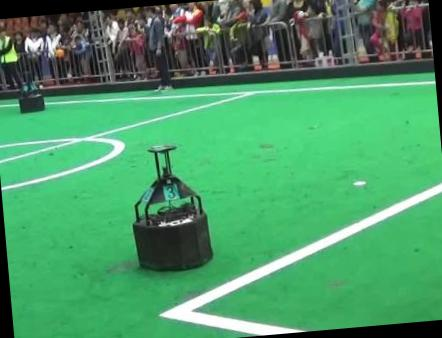robot: (132, 145, 211, 269), (18, 70, 45, 112)
